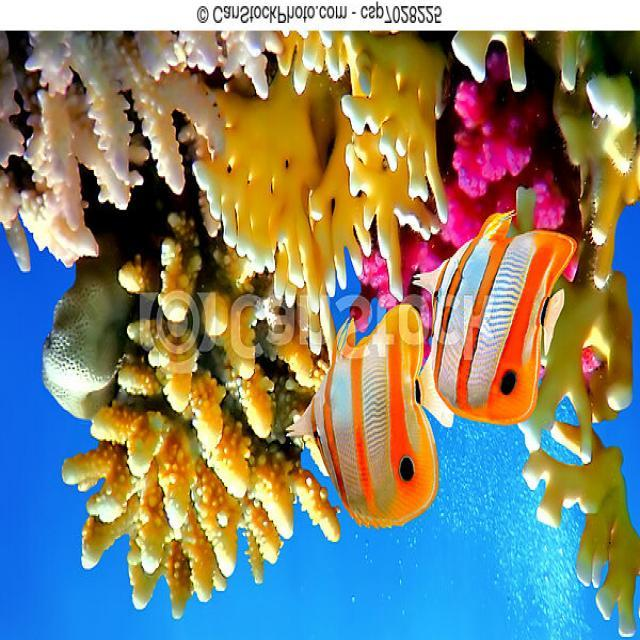ButterflyFish: (287, 289, 440, 536), (404, 212, 590, 408)
